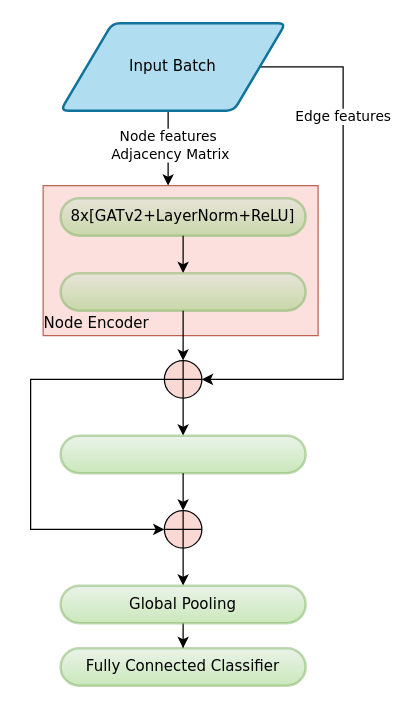
Some shapes in this 413 by 708 pixel diagram are drawn without their labels. The shapes that lost their labels are listed below. From the top down, each one's box as (x1, y1, x2, y2) in pixels, then its label:
(59, 271, 306, 311): Jumping Knowledge
(59, 434, 306, 474): 8x Multi-head Attention
